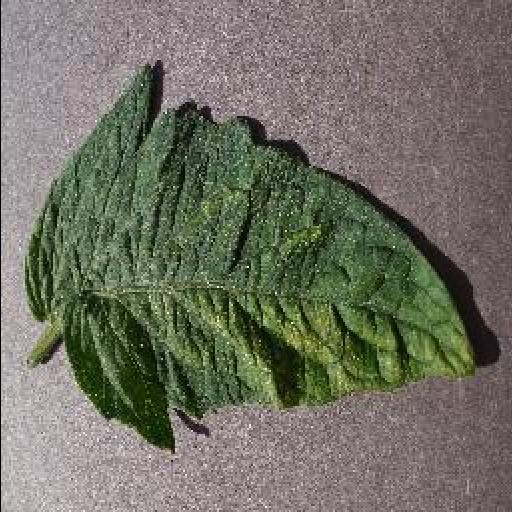disease_tomato: (24, 64, 476, 450)
